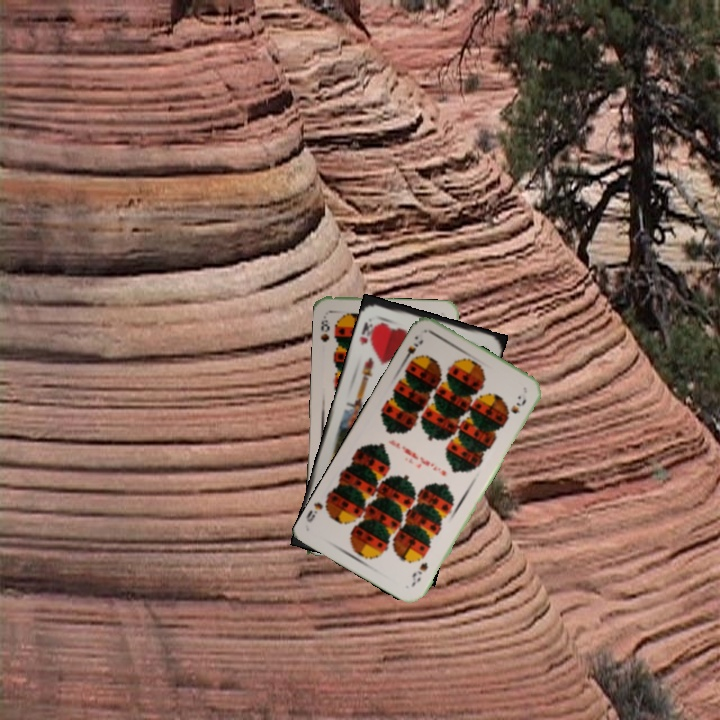HK: (355, 318, 380, 348)
S8: (316, 312, 332, 344)
S9: (399, 335, 426, 367), (407, 558, 431, 589)
